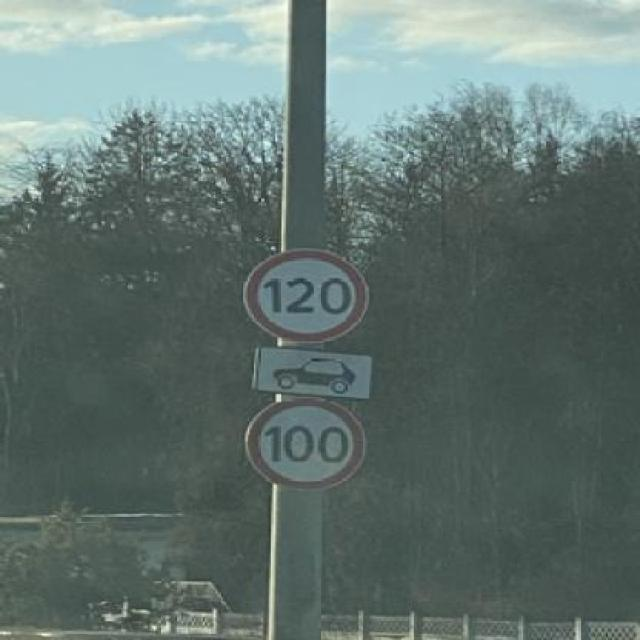forb_speed_over_100: (246, 399, 368, 488)
forb_speed_over_120: (248, 249, 369, 345)
